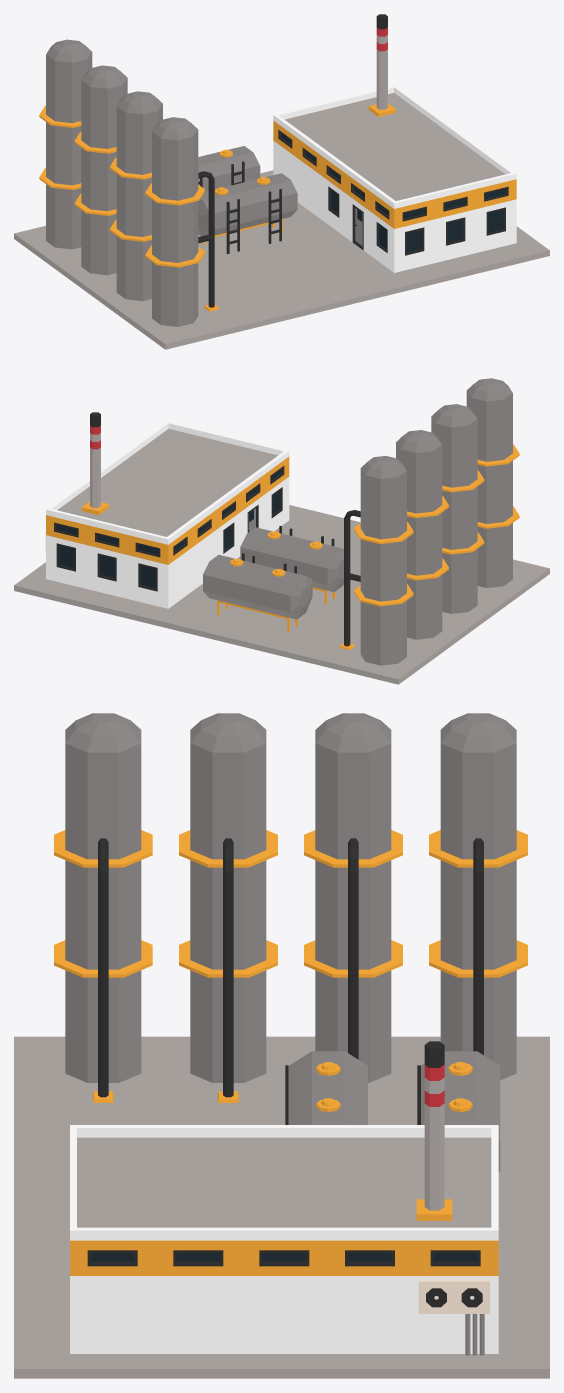
Rendered from industry-refinery.glb.
3 views of the same model, one above another, from view 1: azimuth 30°, elevation 25°; view 2: azimuth 150°, elevation 25°; view 3: azimuth 270°, elevation 25° (orthographic). The views are drawn at different scales.
Parts seen in each view (by area): view 1: industry-refinery; view 2: industry-refinery; view 3: industry-refinery.
Part boxes in pixels (box(x1,y1,x2,y2)): industry-refinery: box(14, 14, 549, 349); industry-refinery: box(14, 378, 549, 684); industry-refinery: box(14, 713, 549, 1378).
Size of the model in its own units: 22 by 11.07 by 15.
Materials: 1 (1 with a texture image).
